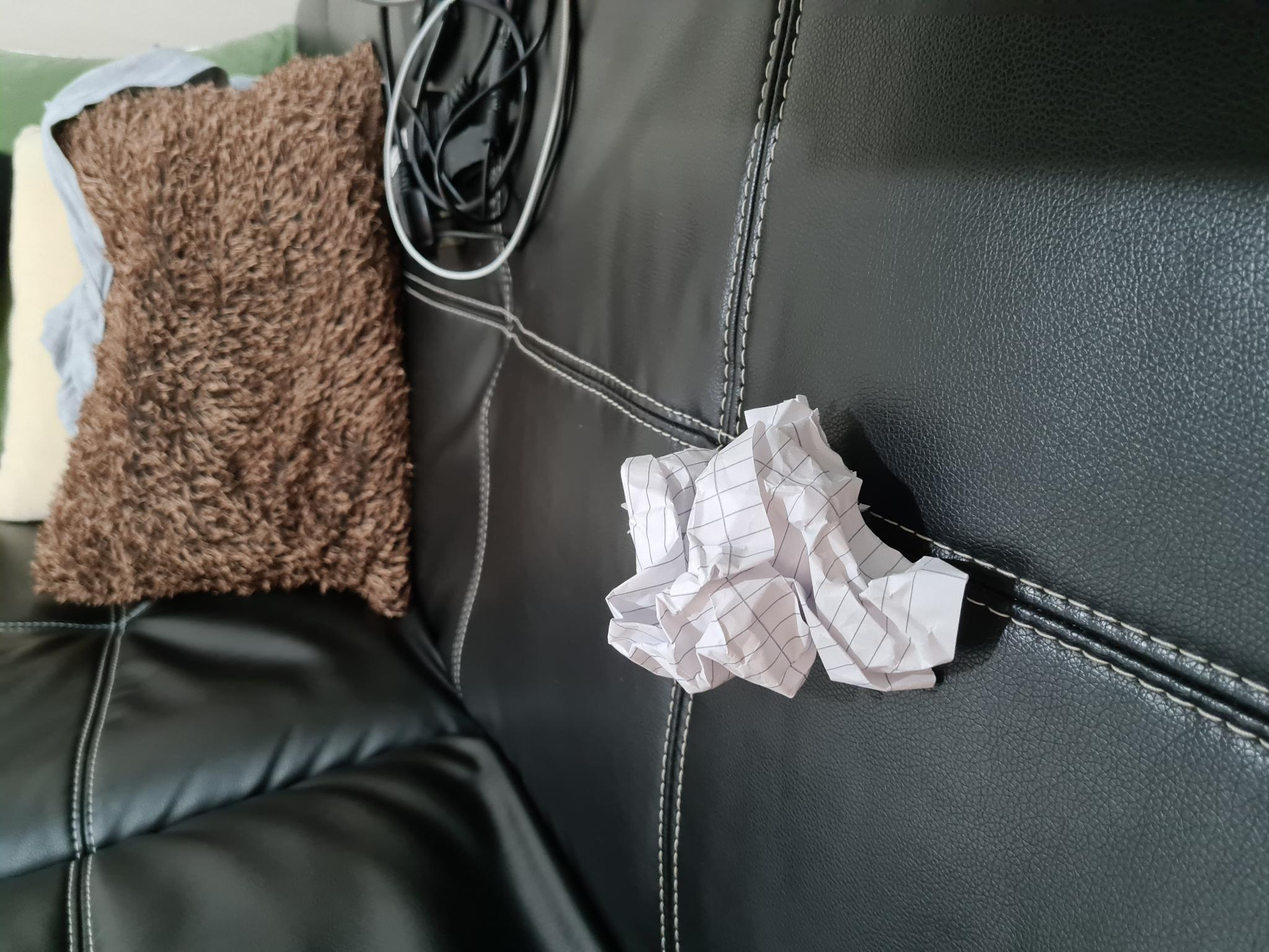Kertas: (259, 570, 558, 952)
